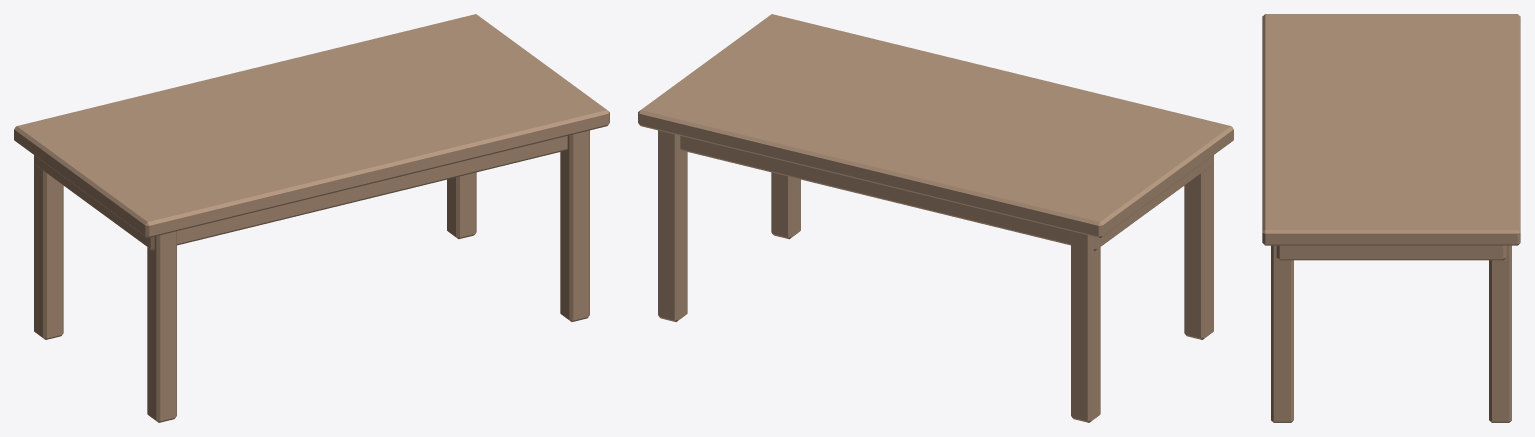
File: SM_Dining_Table_01.fbx
3 renders of one model, left to right at view 1: azimuth 30°, elevation 25°; view 2: azimuth 150°, elevation 25°; view 3: azimuth 270°, elevation 25°, orthographic. The views are drawn at different scales.
Parts seen in each view (by area): view 1: Dining_Table_01; view 2: Dining_Table_01; view 3: Dining_Table_01.
Part boxes in pixels (<box>): Dining_Table_01: <box>14,14,609,422</box>; Dining_Table_01: <box>638,14,1233,422</box>; Dining_Table_01: <box>1262,14,1520,422</box>.
Size of the model in its own units: 180 by 77 by 90.
